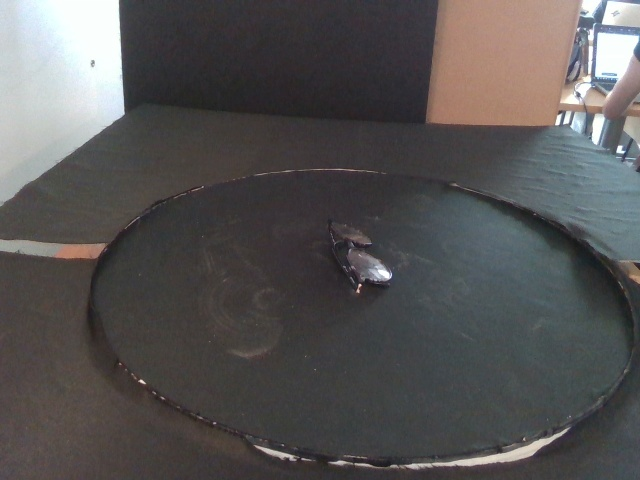glasses: (326, 218, 395, 299)
